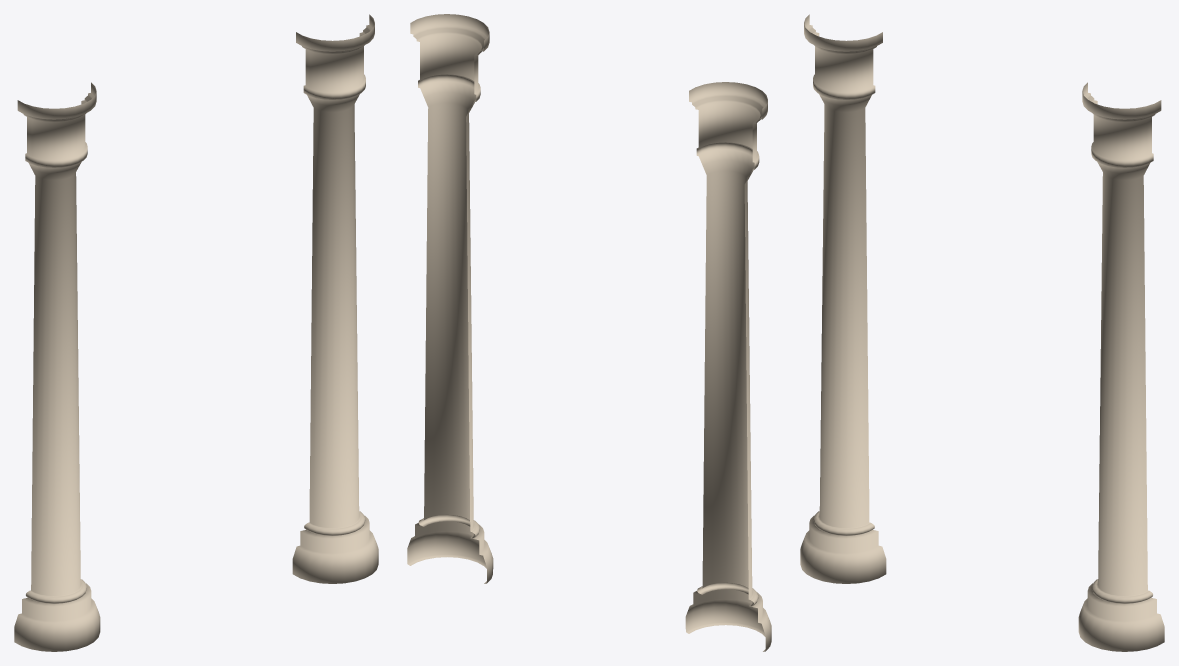
File: E01_2column_half.fbx
3 renders of one model, left to right at view 1: azimuth 30°, elevation 25°; view 2: azimuth 150°, elevation 25°; view 3: azimuth 330°, elevation 25°, orthographic.
Parts seen in each view (by area): view 1: E01_4column_half; view 2: E01_4column_half; view 3: E01_4column_half.
Part boxes in pixels (x1,y1,x2,y2): E01_4column_half: (14,14,378,651); E01_4column_half: (407,14,771,651); E01_4column_half: (800,14,1164,651).
Size of the model in its own units: 207 by 300 by 23.08.
